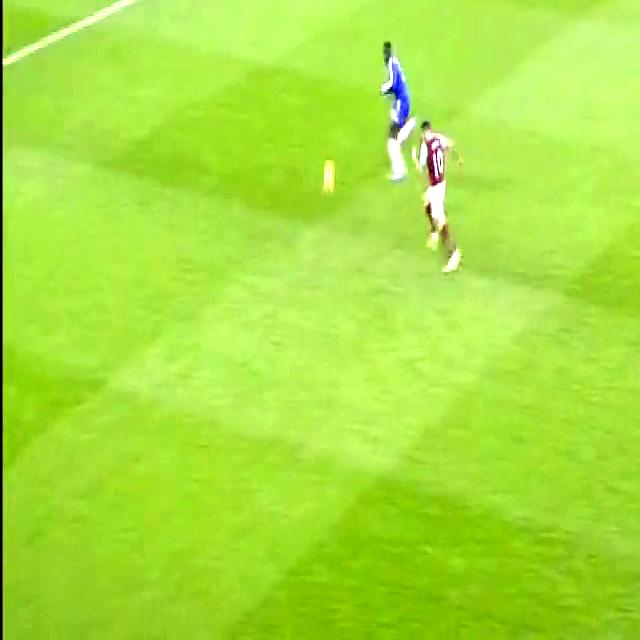ball: (322, 154, 342, 208)
soccer-player: (377, 24, 425, 186), (414, 113, 462, 268)
